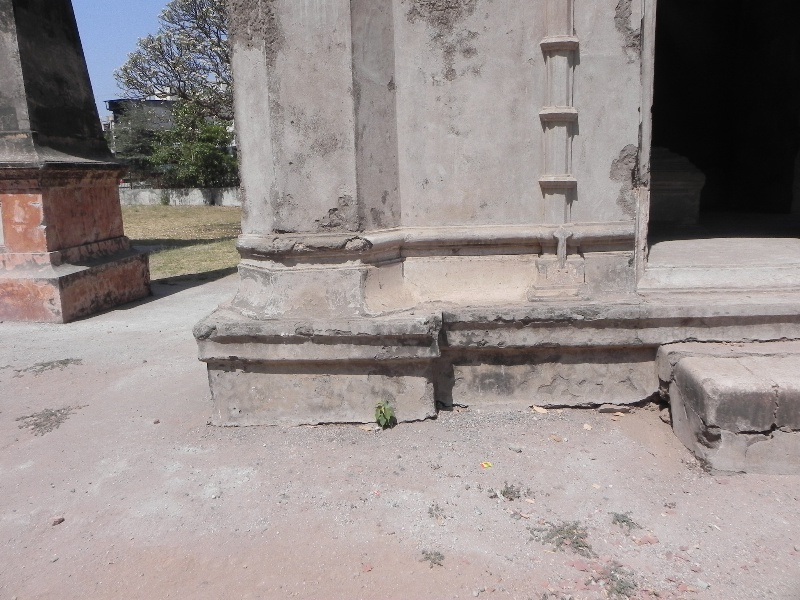Spalling: (402, 1, 490, 77), (225, 1, 289, 77), (276, 221, 379, 260), (607, 1, 648, 81), (615, 136, 650, 221)
